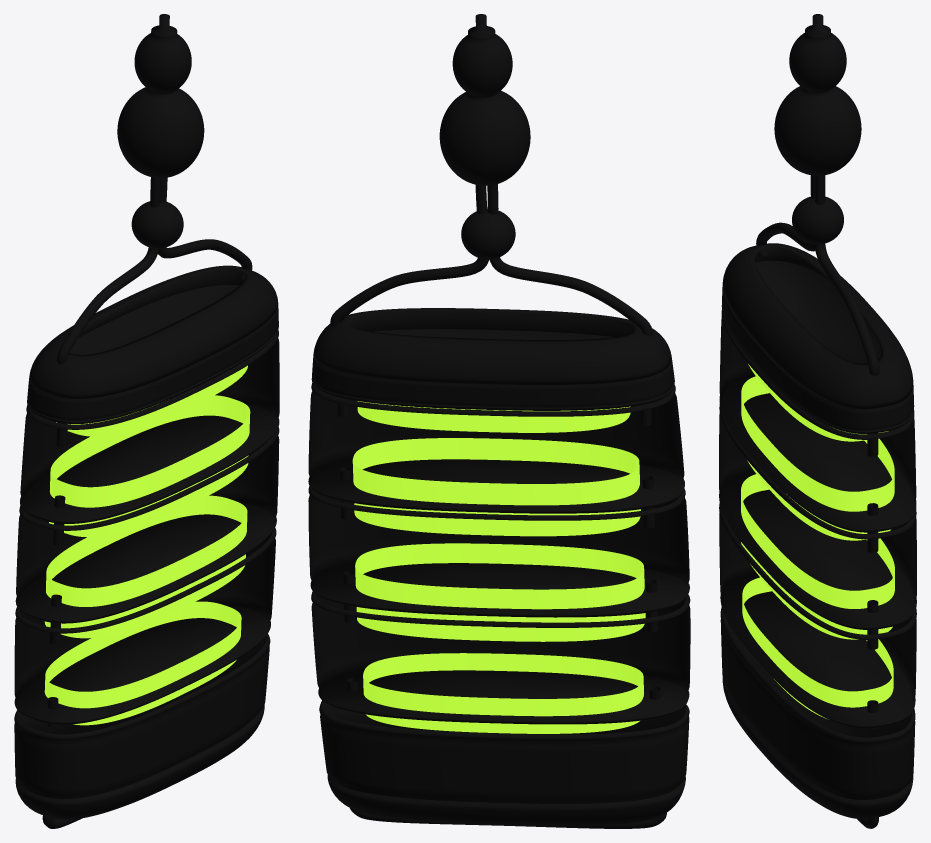
The picture shows the model from 3 angles, left to right: view 1: azimuth 30°, elevation 25°; view 2: azimuth 150°, elevation 25°; view 3: azimuth 270°, elevation 25°; orthographic projection. The views are drawn at different scales.
Visible parts, largest first — view 1: dan0, dan4, dan3, dan2, dan1, netsuke, hikari1, hikari2, hikari3, himo_ue, hikari0, ojime; view 2: dan4, dan0, dan3, dan2, dan1, hikari1, hikari2, hikari3, netsuke, himo_ue, hikari0, ojime (+1 smaller); view 3: dan0, dan4, dan3, dan2, dan1, netsuke, hikari1, hikari2, hikari3, himo_ue, ojime, hikari0.
Part boxes in pixels (bbox=[...]): dan0: bbox=[27, 265, 278, 423]; dan4: bbox=[14, 634, 270, 819]; dan3: bbox=[14, 527, 276, 724]; dan2: bbox=[15, 427, 279, 623]; dan1: bbox=[20, 330, 279, 523]; netsuke: bbox=[117, 14, 204, 178]; hikari1: bbox=[49, 395, 250, 537]; hikari2: bbox=[44, 495, 247, 638]; hikari3: bbox=[44, 601, 241, 725]; himo_ue: bbox=[57, 177, 252, 363]; hikari0: bbox=[56, 365, 247, 436]; ojime: bbox=[131, 201, 183, 248]; dan4: bbox=[319, 700, 689, 826]; dan0: bbox=[311, 308, 674, 410]; dan3: bbox=[311, 591, 690, 724]; dan2: bbox=[308, 486, 689, 617]; dan1: bbox=[308, 383, 684, 513]; hikari1: bbox=[352, 438, 640, 536]; hikari2: bbox=[355, 543, 645, 641]; hikari3: bbox=[363, 653, 643, 733]; netsuke: bbox=[439, 14, 530, 185]; himo_ue: bbox=[330, 184, 652, 336]; hikari0: bbox=[357, 401, 630, 432]; ojime: bbox=[461, 209, 515, 259]; dan0: bbox=[721, 243, 914, 433]; dan4: bbox=[720, 607, 915, 819]; dan3: bbox=[719, 503, 916, 728]; dan2: bbox=[719, 404, 916, 629]; dan1: bbox=[719, 310, 916, 532]; netsuke: bbox=[774, 14, 861, 175]; hikari1: bbox=[741, 376, 894, 540]; hikari2: bbox=[741, 474, 894, 639]; hikari3: bbox=[742, 577, 893, 718]; himo_ue: bbox=[756, 175, 879, 375]; ojime: bbox=[792, 196, 843, 244]; hikari0: bbox=[748, 364, 888, 441].
Bounding box in the file's own units: 0.8062 × 1.96 × 0.4546.
